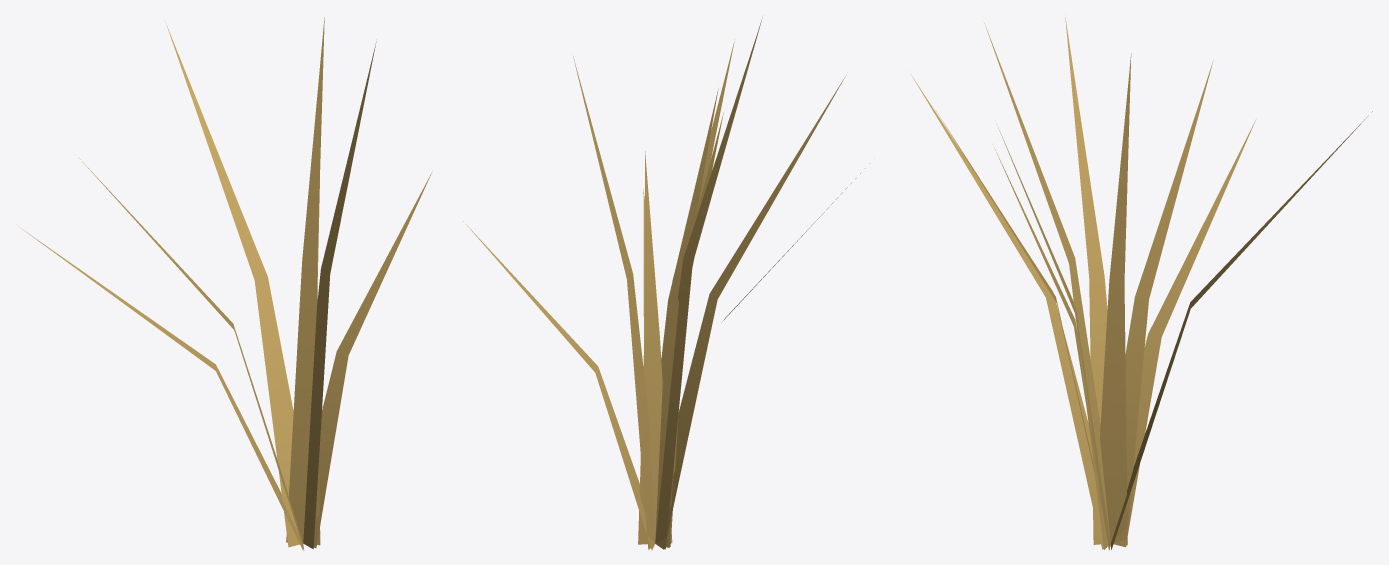
File: grass.glb
The picture shows the model from 3 angles, left to right: view 1: azimuth 30°, elevation 25°; view 2: azimuth 150°, elevation 25°; view 3: azimuth 270°, elevation 25°; orthographic projection.
Visible parts, largest first — view 1: blades; view 2: blades; view 3: blades.
Boxes of the visible parts, x1=… form: blades: x1=19, y1=17, x2=431, y2=550; blades: x1=463, y1=18, x2=865, y2=550; blades: x1=911, y1=17, x2=1372, y2=550.
Size of the model in its own units: 0.6272 by 0.7912 by 0.6666.
